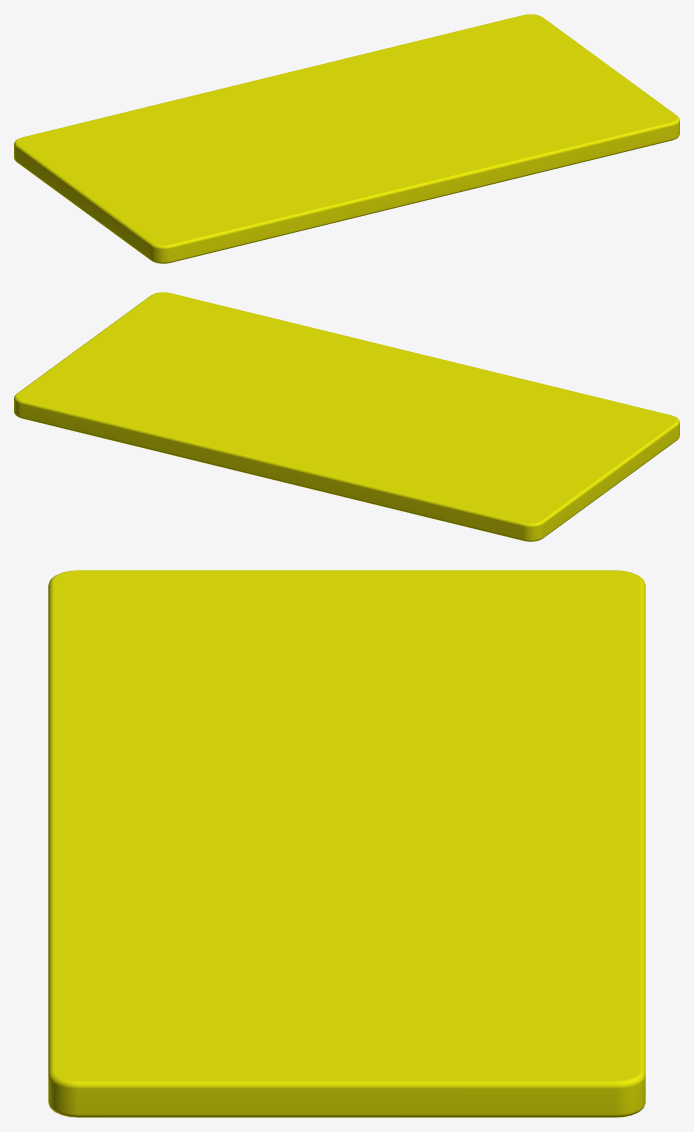
3 views of the same model, one above another, from view 1: azimuth 30°, elevation 25°; view 2: azimuth 150°, elevation 25°; view 3: azimuth 270°, elevation 25° (orthographic). The views are drawn at different scales.
Visible parts, largest first — view 1: pCube1; view 2: pCube1; view 3: pCube1.
Boxes of the visible parts, bbox=[...] form: pCube1: bbox=[14, 14, 679, 263]; pCube1: bbox=[14, 292, 679, 541]; pCube1: bbox=[48, 570, 645, 1117].
Size of the model in its own units: 4.65 by 0.1529 by 2.28.
